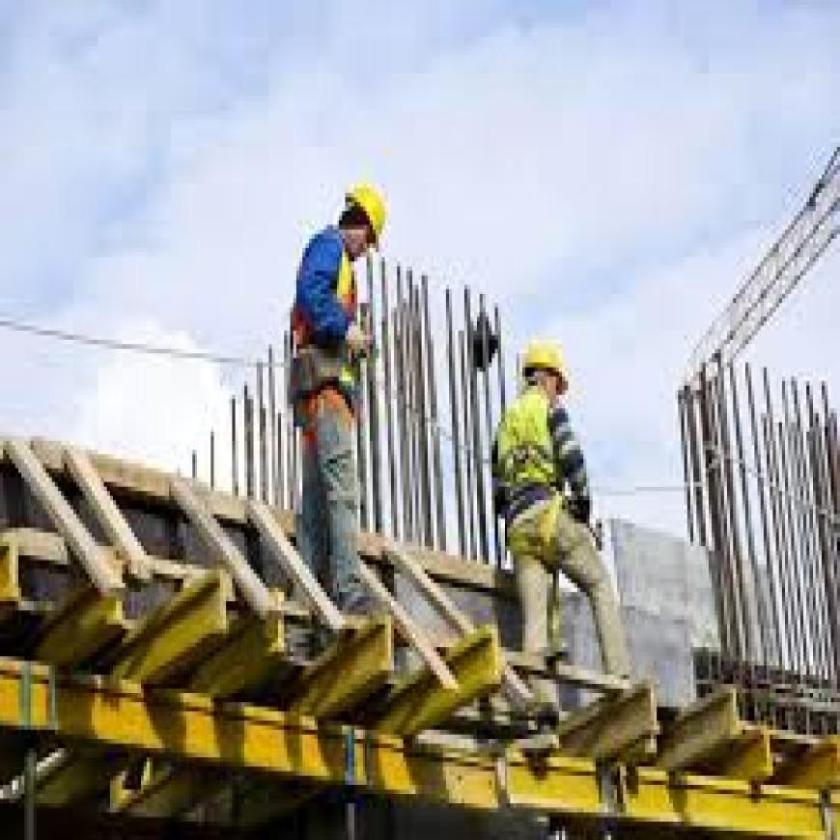Con_casco: (338, 186, 390, 279), (523, 338, 570, 404)
